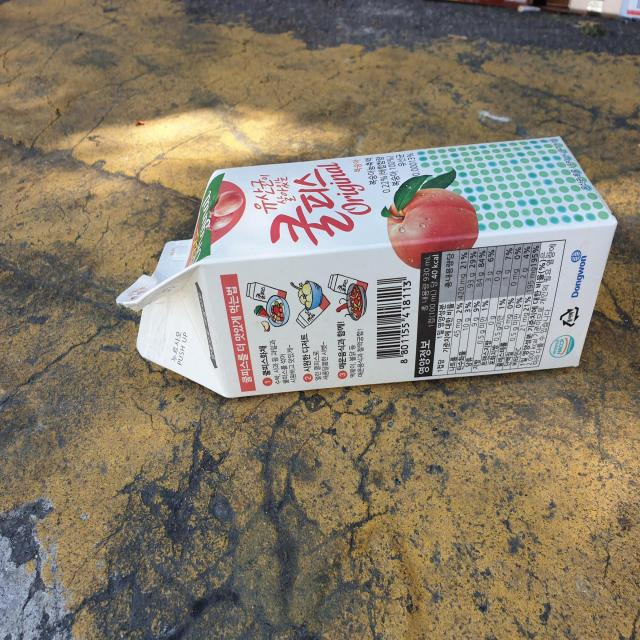paperpack: (116, 136, 618, 397)
